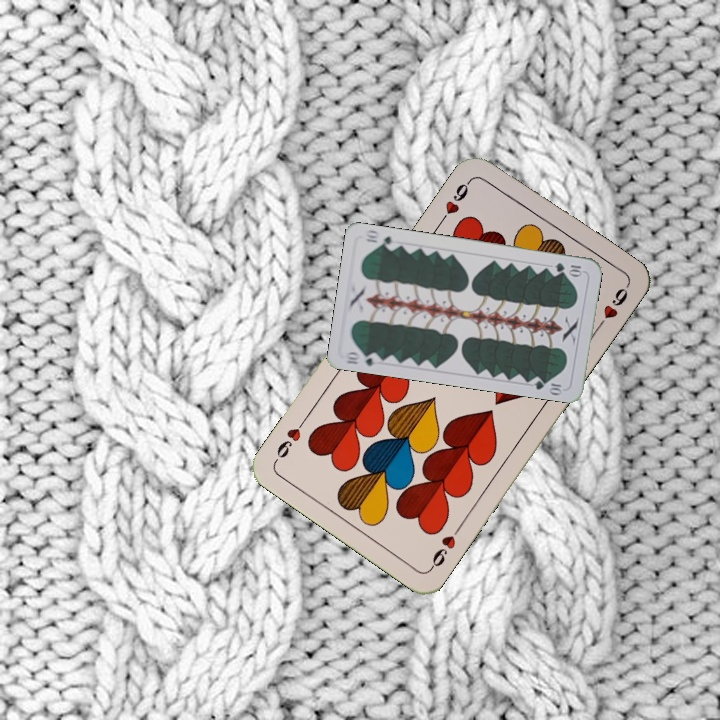G10: (342, 347, 383, 369), (551, 259, 586, 278)
H9: (436, 174, 475, 226), (426, 521, 464, 572)
